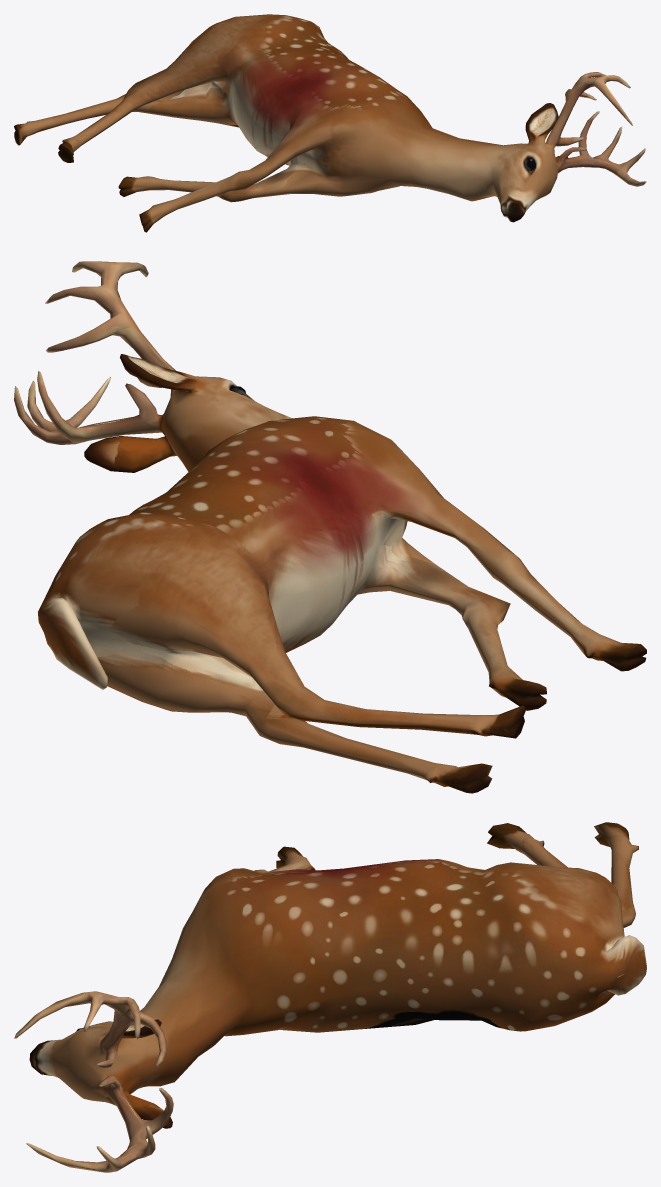
3 renders of one model, top to bottom at view 1: azimuth 30°, elevation 25°; view 2: azimuth 150°, elevation 25°; view 3: azimuth 270°, elevation 25°, orthographic. The views are drawn at different scales.
Visible parts, largest first — view 1: Deer-lowP; view 2: Deer-lowP; view 3: Deer-lowP.
Part boxes in pixels (bbox=[...]): Deer-lowP: bbox=[14, 14, 646, 232]; Deer-lowP: bbox=[14, 261, 646, 793]; Deer-lowP: bbox=[14, 822, 646, 1172].
Bounding box in the file's own units: 154 × 35.95 × 127.
